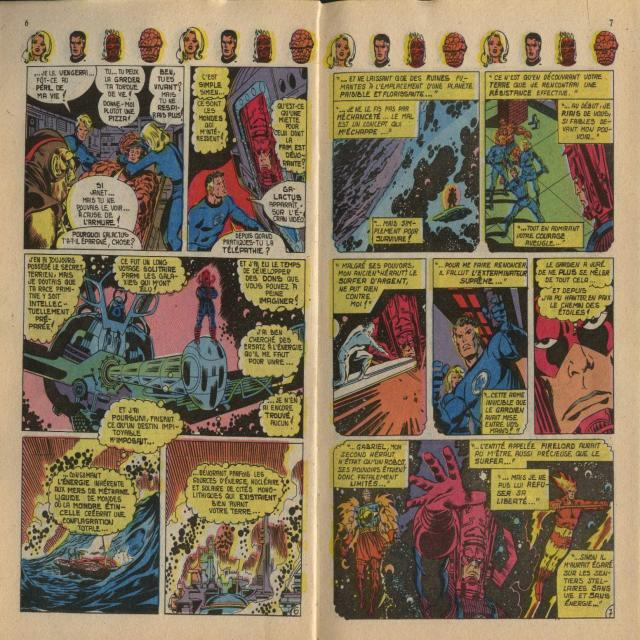comic_panel: (20, 251, 307, 439), (332, 438, 616, 621), (22, 64, 185, 253), (330, 70, 481, 255), (20, 435, 161, 615), (164, 439, 304, 618), (484, 69, 615, 253), (186, 64, 308, 254), (332, 257, 429, 437), (432, 257, 529, 437), (532, 256, 616, 437)
